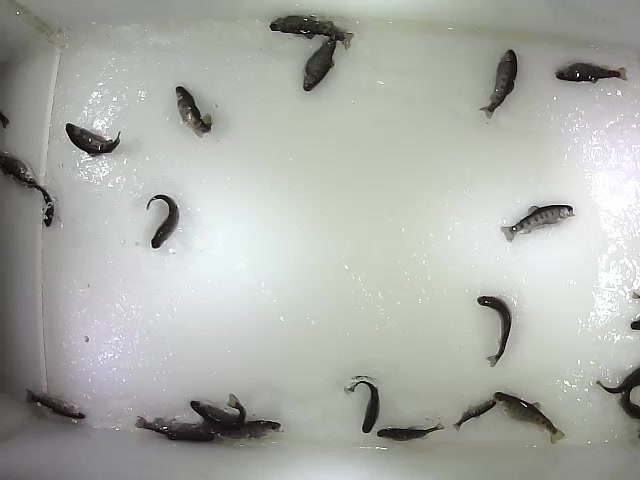fish: (492, 390, 569, 446), (268, 14, 356, 52), (499, 203, 577, 244), (477, 48, 519, 121), (302, 27, 344, 93), (476, 295, 513, 368), (133, 414, 216, 444), (64, 121, 123, 160), (23, 386, 88, 421), (174, 85, 213, 139), (342, 381, 380, 435), (145, 193, 181, 249), (189, 392, 248, 426), (18, 176, 55, 228), (553, 61, 629, 86), (198, 419, 283, 440), (452, 398, 498, 433), (376, 421, 447, 443)
